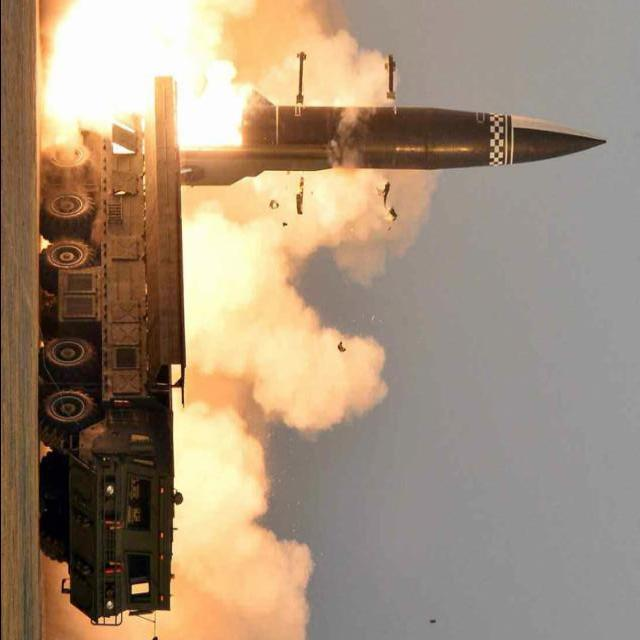missile: (221, 84, 611, 187)
